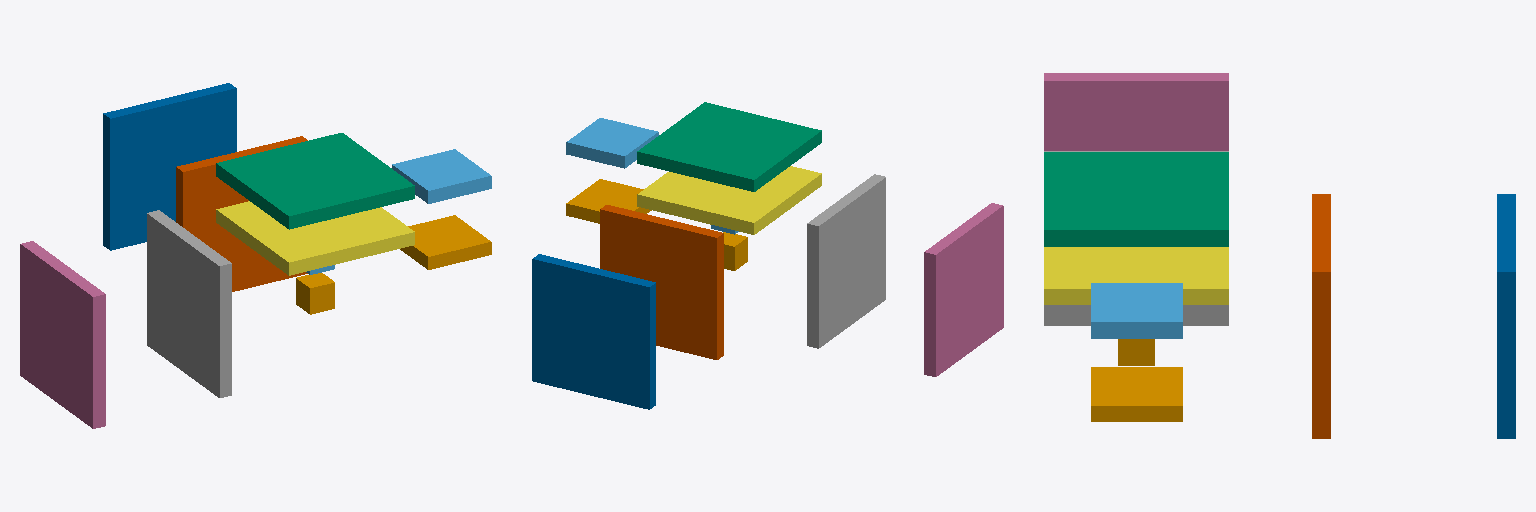
robot.urdf — fixed_planar_joints:
<?xml version="1.0"?>
<robot name="fixed_planar_joints">
  <link name="BaseLink">
    <visual>
      <origin rpy="0 0 0" xyz="0.0 0 0"/>
      <geometry>
        <box size="0.2 0.2 0.2"/>
      </geometry>
    </visual>
  </link>
  <link name="link1">
    <visual>
      <origin rpy="0 0 0" xyz="0 0 0.15"/>
      <geometry>
        <box size="0.2 0.2 0.2"/>
      </geometry>
    </visual>
  </link>
  <link name="planar_negative_z">
    <visual>
      <origin rpy="0 0 0" xyz="0 0 0"/>
      <geometry>
        <box size="1.0 1.0 0.1"/>
      </geometry>
    </visual>
  </link>
  <link name="planar_z">
    <visual>
      <origin rpy="0 0 0" xyz="0 0 0"/>
      <geometry>
        <box size="1.0 1.0 0.1"/>
      </geometry>
    </visual>
  </link>
  <link name="planar_negative_y">
    <visual>
      <origin rpy="0 0 0" xyz="0 0 0"/>
      <geometry>
        <box size="1.0 0.1 1.0"/>
      </geometry>
    </visual>
  </link>
  <link name="planar_y">
    <visual>
      <origin rpy="0 0 0" xyz="0 0 0"/>
      <geometry>
        <box size="1.0 0.1 1.0"/>
      </geometry>
    </visual>
  </link>
  <link name="planar_negative_x">
    <visual>
      <origin rpy="0 0 0" xyz="0 0 0"/>
      <geometry>
        <box size="0.1 1.0 1.0"/>
      </geometry>
    </visual>
  </link>
  <link name="planar_x">
    <visual>
      <origin rpy="0 0 0" xyz="0 0 0"/>
      <geometry>
        <box size="0.1 1.0 1.0"/>
      </geometry>
    </visual>
  </link>
  <link name="planar_tilt">
    <visual>
      <origin rpy="0 0 0" xyz="0 0 0"/>
      <geometry>
        <box size="0.5 0.5 0.1"/>
      </geometry>
    </visual>
  </link>
  <link name="planar_tilt_axis_len_0">
    <visual>
      <origin rpy="0 0 0" xyz="0 0 0"/>
      <geometry>
        <box size="0.5 0.5 0.1"/>
      </geometry>
    </visual>
  </link>

  <joint name="joint_root" type="fixed">
    <origin rpy="0 0 0" xyz="0 0 0.15"/>
    <parent link="BaseLink"/>
    <child link="link1"/>
  </joint>
  <joint name="joint_planar_axis_z" type="planar">
    <origin rpy="0 0 0" xyz="0 0 0.35"/>
    <parent link="link1"/>
    <child link="planar_z"/>
    <axis xyz="0 0 1"/>
  </joint>
  <joint name="joint_planar_axis_negative_z" type="planar">
    <origin rpy="0 0 0" xyz="0 0 0.7"/>
    <parent link="link1"/>
    <child link="planar_negative_z"/>
    <axis xyz="0 0 -1"/>
  </joint>
  <joint name="joint_planar_axis_y" type="planar">
    <origin rpy="0 0 0" xyz="0 1 0"/>
    <parent link="link1"/>
    <child link="planar_y"/>
    <axis xyz="0 1 0"/>
  </joint>
  <joint name="joint_planar_axis_negative_y" type="planar">
    <origin rpy="0 0 0" xyz="0 2 0"/>
    <parent link="link1"/>
    <child link="planar_negative_y"/>
    <axis xyz="0 -1 0"/>
  </joint>
  <joint name="joint_planar_axis_x" type="planar">
    <origin rpy="0 0 0" xyz="-1 0 0"/>
    <parent link="link1"/>
    <child link="planar_x"/>
    <axis xyz="1 0 0"/>
  </joint>
  <joint name="joint_planar_axis_negative_x" type="planar">
    <origin rpy="0 0 0" xyz="-2 0 0"/>
    <parent link="link1"/>
    <child link="planar_negative_x"/>
    <axis xyz="-1 0 0"/>
  </joint>

  <joint name="joint_planar_axis_tilt" type="planar">
    <origin rpy="0 0 0" xyz="1 0 0"/>
    <parent link="link1"/>
    <child link="planar_tilt"/>
    <axis xyz="0.2 0.3 1"/>
  </joint>
  <joint name="joint_planar_axis_tilt_axis_len_0" type="planar">
    <origin rpy="0 0 0" xyz="1 0 0.5"/>
    <parent link="link1"/>
    <child link="planar_tilt_axis_len_0"/>
    <axis xyz="0 0 0"/>
  </joint>
</robot>

--- What the picture shows (computed from the rendered views, not written in the file) ---
3 views of the same robot in one strip: view 1: azimuth 30°, elevation 25°; view 2: azimuth 150°, elevation 25°; view 3: azimuth 270°, elevation 25° (orthographic).
Robot: fixed_planar_joints — 10 links, 9 joints (1 fixed, 8 planar); root link BaseLink; default pose: all joints at 0.
Links seen in each view (by area): view 1: planar_negative_y, planar_negative_x, planar_x, planar_negative_z, planar_z, planar_y, planar_tilt_axis_len_0, planar_tilt, BaseLink; view 2: planar_negative_y, planar_y, planar_negative_x, planar_x, planar_negative_z, planar_z, planar_tilt_axis_len_0, planar_tilt, BaseLink; view 3: planar_negative_z, planar_negative_x, planar_z, planar_tilt_axis_len_0, planar_tilt, planar_negative_y, planar_y, planar_x, BaseLink.
Link boxes in pixels (left/top/right/bottom): planar_negative_y: left=103, top=83, right=236, bottom=250; planar_negative_x: left=20, top=241, right=105, bottom=428; planar_x: left=147, top=210, right=231, bottom=397; planar_negative_z: left=216, top=133, right=414, bottom=229; planar_z: left=216, top=201, right=414, bottom=275; planar_y: left=176, top=136, right=307, bottom=291; planar_tilt_axis_len_0: left=392, top=149, right=491, bottom=203; planar_tilt: left=400, top=215, right=491, bottom=269; BaseLink: left=296, top=273, right=334, bottom=314; planar_negative_y: left=532, top=254, right=655, bottom=409; planar_y: left=600, top=205, right=723, bottom=359; planar_negative_x: left=924, top=203, right=1003, bottom=376; planar_x: left=807, top=174, right=885, bottom=348; planar_negative_z: left=637, top=102, right=821, bottom=191; planar_z: left=637, top=166, right=821, bottom=234; planar_tilt_axis_len_0: left=566, top=118, right=658, bottom=168; planar_tilt: left=566, top=179, right=651, bottom=223; BaseLink: left=723, top=232, right=747, bottom=270; planar_negative_z: left=1044, top=152, right=1228, bottom=246; planar_negative_x: left=1044, top=73, right=1228, bottom=150; planar_z: left=1044, top=247, right=1228, bottom=304; planar_tilt_axis_len_0: left=1091, top=283, right=1182, bottom=338; planar_tilt: left=1091, top=367, right=1182, bottom=421; planar_negative_y: left=1497, top=194, right=1515, bottom=438; planar_y: left=1312, top=194, right=1330, bottom=438; planar_x: left=1044, top=151, right=1228, bottom=325; BaseLink: left=1118, top=339, right=1154, bottom=365.
Size in the robot's own frame: 3.3 by 2.55 by 1.25 metres.
Geometry: primitives only (box / cylinder / sphere), no mesh files.